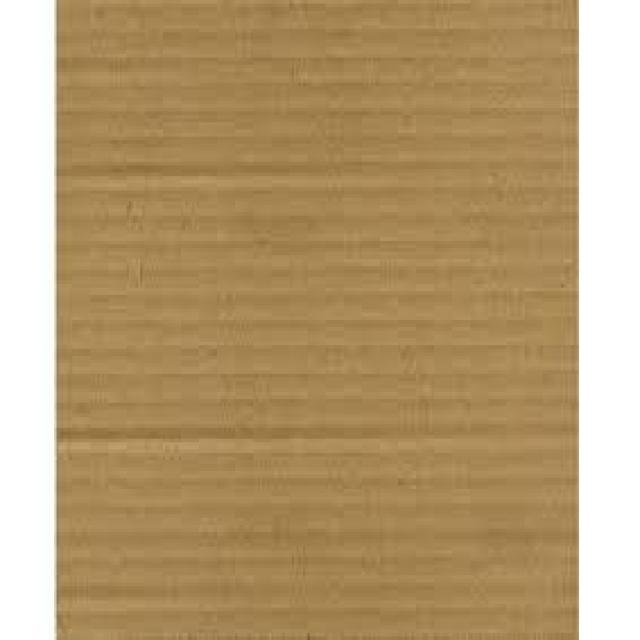Cardboard: (56, 0, 580, 640)
